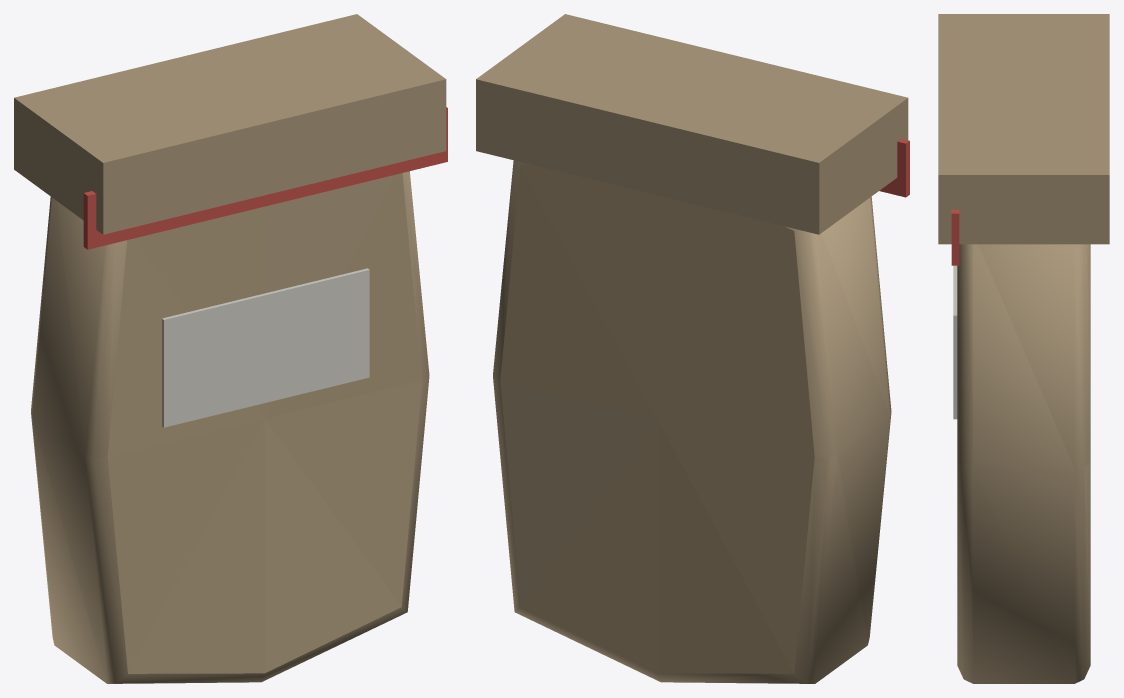
Rendered from evidence_bag_a.glb.
The picture shows the model from 3 angles, left to right: view 1: azimuth 30°, elevation 25°; view 2: azimuth 150°, elevation 25°; view 3: azimuth 270°, elevation 25°; orthographic projection. The views are drawn at different scales.
Visible parts, largest first — view 1: body; view 2: body; view 3: body.
Boxes of the visible parts, x1=… form: body: x1=14, y1=14, x2=447, y2=683; body: x1=476, y1=14, x2=909, y2=683; body: x1=938, y1=14, x2=1109, y2=683.
Size of the model in its own units: 0.21 by 0.32 by 0.09.
